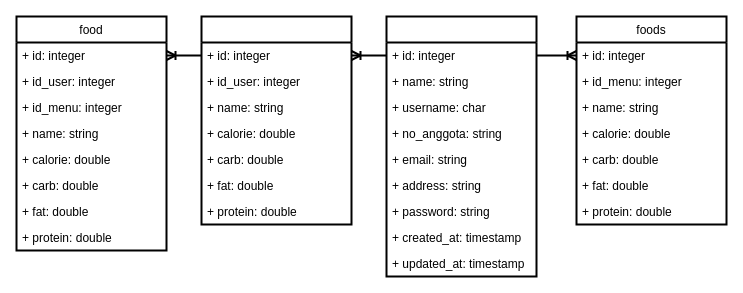
This 743x293 diagram has some shape labels left out. Here are the shapes that lost their labels. From the top down, the box of each, then its label:
(200, 15, 352, 225): foods_menu
(385, 15, 537, 277): Member
